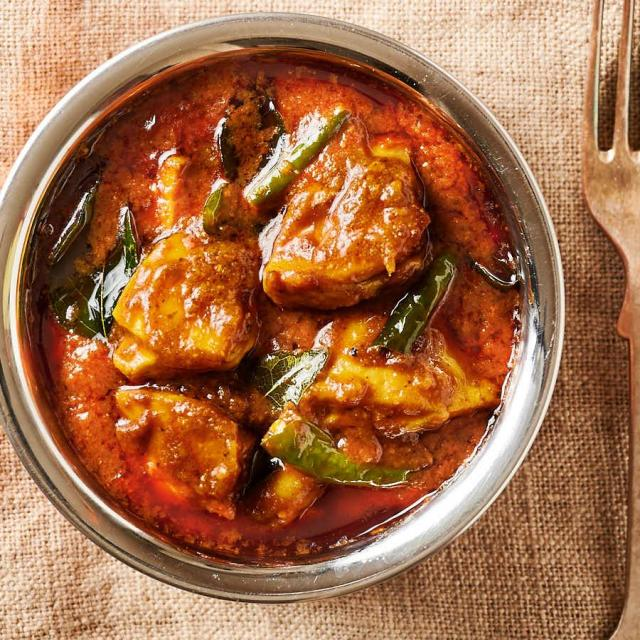chicken: (12, 45, 537, 585)
